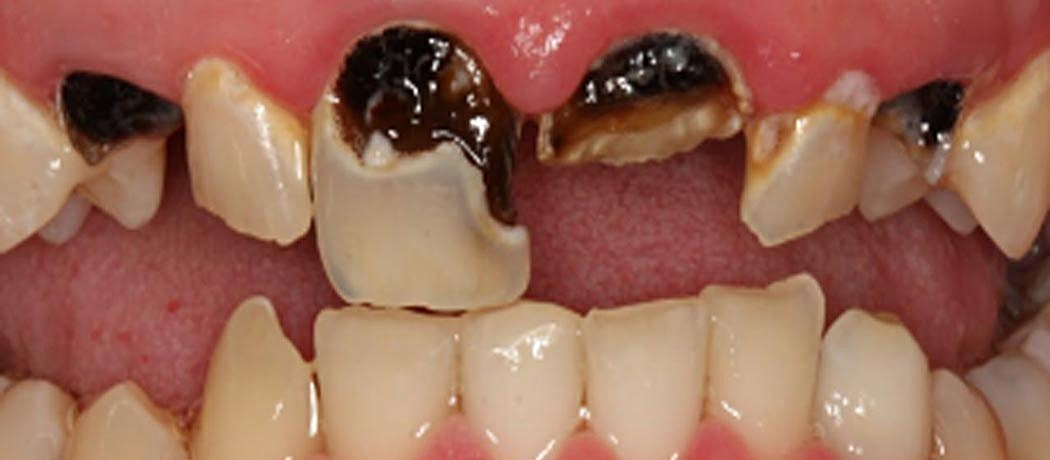karies: (324, 22, 522, 164), (544, 34, 733, 150), (55, 72, 184, 152), (875, 80, 965, 153), (740, 109, 801, 173)
